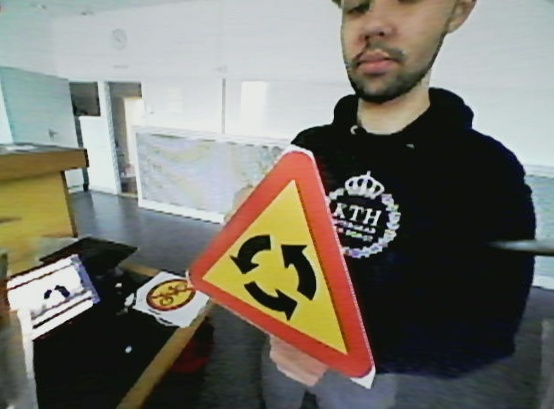roundabout_warning: (184, 141, 374, 381)
